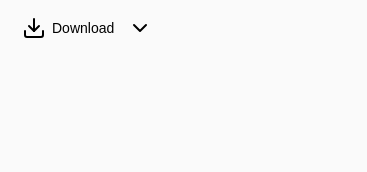
Download split menu › adds to the queue without starting the download, and closes
What coordinates should you click on to do the following:
click the button with test id "btn-download-menu"
I would click on:
 (140, 28)
Its box is [124,12,156,44].
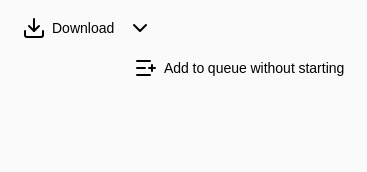
What coordinates should you click on to do the following:
click the menu item "Add to queue without starting"
I would click on:
 (239, 68)
Its box is [128,52,350,84].
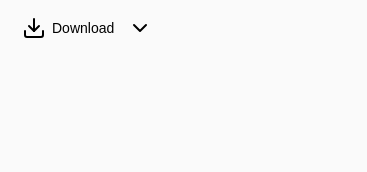
Now the menu is gone
